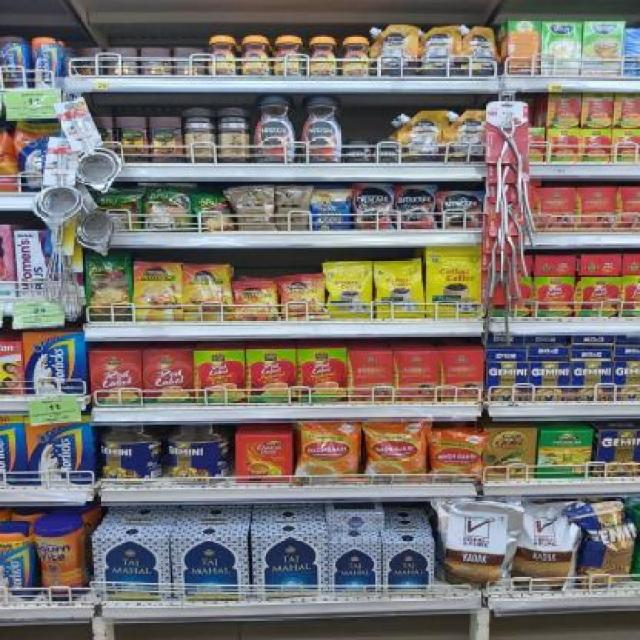Coffee: (252, 94, 296, 164), (133, 260, 181, 322), (299, 94, 341, 164), (182, 264, 230, 322), (280, 278, 325, 319), (354, 184, 394, 230), (233, 280, 279, 320), (397, 186, 435, 228), (439, 192, 481, 228), (241, 36, 271, 76), (208, 36, 238, 75), (308, 36, 337, 75), (342, 36, 369, 75), (274, 36, 300, 76), (347, 140, 371, 162), (376, 140, 399, 162)
